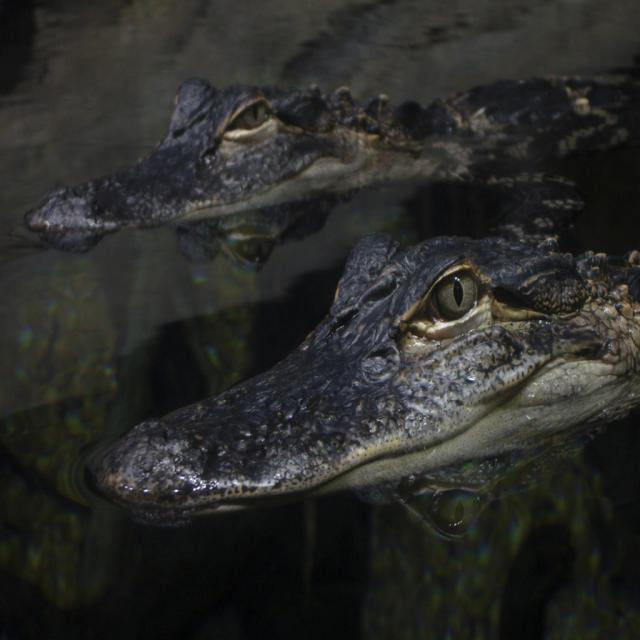crocodile: (0, 33, 639, 535)
